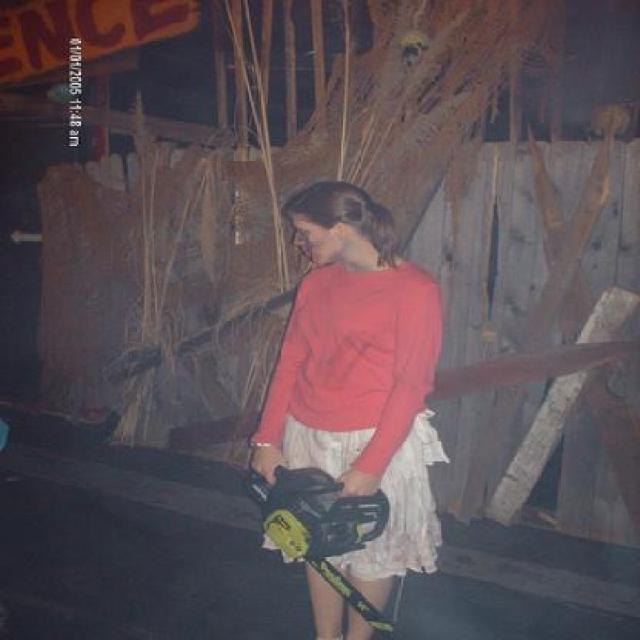Chainsaw: (246, 464, 395, 640)
